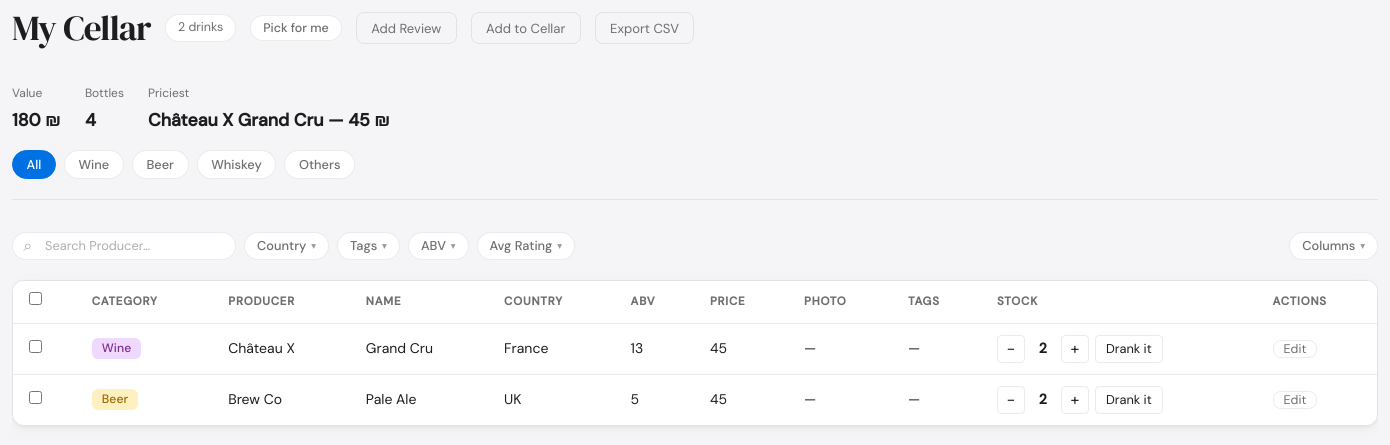
Test case: clicking a producer cell adds producer filter
Expected: the text "Grand Cru" is shown, [350,323,488,374]
Click the text "Château X" at x=262, y=348, box [228,339,295,357]
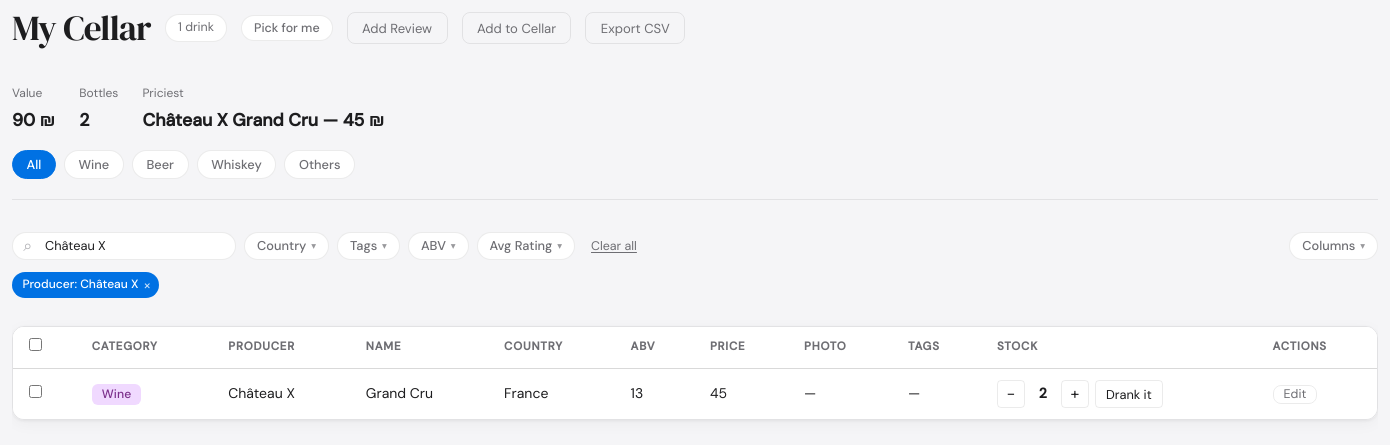
Result: the element with class "filter-chip" shows "Château X" at [80,276,138,292]
Result: the text "Pale Ale" is gone
